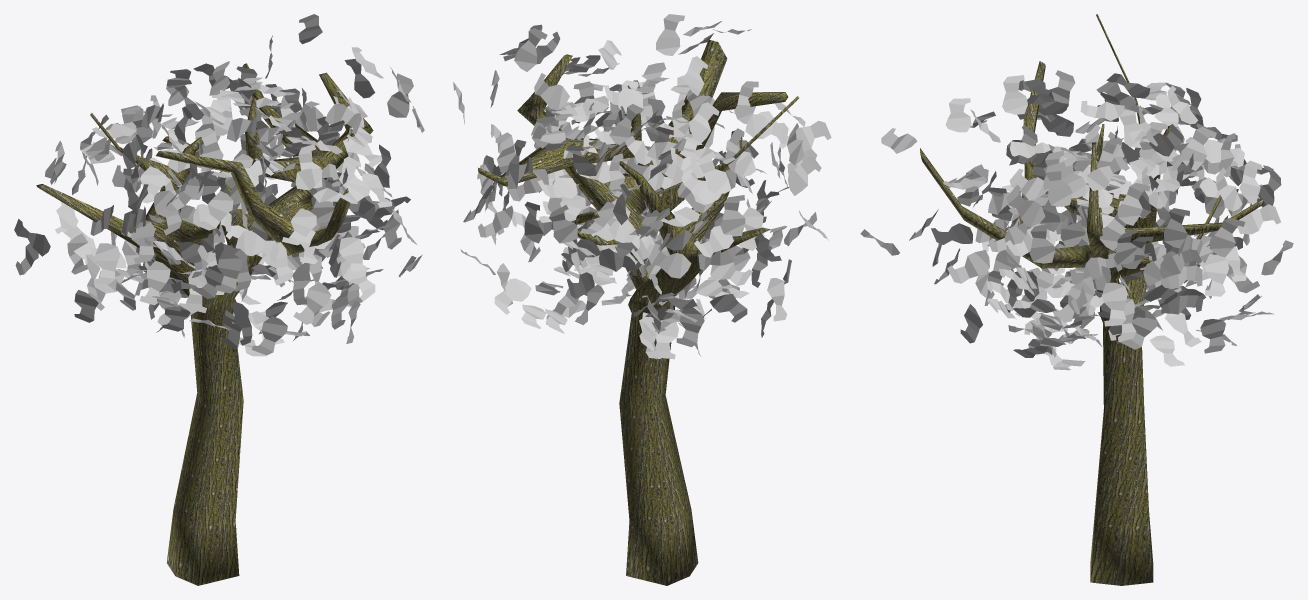
Rendered from alberi e sfondo.fbx.
3 renders of one model, left to right at view 1: azimuth 30°, elevation 25°; view 2: azimuth 150°, elevation 25°; view 3: azimuth 270°, elevation 25°, orthographic.
Parts seen in each view (by area): view 1: Cube, Cube|Empty.001|Dupli|66, Cube|Empty.001|Dupli|119, Cube|Empty.001|Dupli|143, Cube|Empty.001|Dupli|54, Cube|Empty.001|Dupli|179, Cube|Empty.001|Dupli|2, Cube|Empty.001|Dupli|132, Cube|Empty.001|Dupli|145, Cube|Empty.001|Dupli|266, Cube|Empty.001|Dupli|31, Cube|Empty.001|Dupli|26 (+12 smaller); view 2: Cube, Cube|Empty.001|Dupli|149, Cube|Empty.001|Dupli|166, Cube|Empty.001|Dupli|222, Cube|Empty.001|Dupli|175, Cube|Empty.001|Dupli|172, Cube|Empty.001|Dupli|217, Cube|Empty.001|Dupli|23, Cube|Empty.001|Dupli|117, Cube|Empty.001|Dupli|209, Cube|Empty.001|Dupli|211, Cube|Empty.001|Dupli|137 (+22 smaller); view 3: Cube, Cube|Empty.001|Dupli|197, Cube|Empty.001|Dupli|71, Cube|Empty.001|Dupli|90, Cube|Empty.001|Dupli|123, Cube|Empty.001|Dupli|150, Cube|Empty.001|Dupli|198, Cube|Empty.001|Dupli|30, Cube|Empty.001|Dupli|164, Cube|Empty.001|Dupli|239, Cube|Empty.001|Dupli|131, Cube|Empty.001|Dupli|151 (+19 smaller).
Boxes of the visible parts, bbox=[...] form: Cube: bbox=[36, 63, 373, 585]; Cube|Empty.001|Dupli|66: bbox=[94, 243, 120, 284]; Cube|Empty.001|Dupli|119: bbox=[235, 230, 279, 262]; Cube|Empty.001|Dupli|143: bbox=[339, 237, 367, 280]; Cube|Empty.001|Dupli|54: bbox=[215, 250, 242, 293]; Cube|Empty.001|Dupli|179: bbox=[293, 282, 331, 324]; Cube|Empty.001|Dupli|2: bbox=[196, 191, 233, 230]; Cube|Empty.001|Dupli|132: bbox=[139, 260, 170, 305]; Cube|Empty.001|Dupli|145: bbox=[251, 316, 287, 355]; Cube|Empty.001|Dupli|266: bbox=[282, 208, 316, 245]; Cube|Empty.001|Dupli|31: bbox=[131, 220, 155, 263]; Cube|Empty.001|Dupli|26: bbox=[387, 73, 413, 117]; Cube: bbox=[478, 40, 798, 585]; Cube|Empty.001|Dupli|149: bbox=[648, 243, 691, 278]; Cube|Empty.001|Dupli|166: bbox=[720, 195, 745, 236]; Cube|Empty.001|Dupli|222: bbox=[698, 151, 731, 193]; Cube|Empty.001|Dupli|175: bbox=[656, 14, 684, 55]; Cube|Empty.001|Dupli|172: bbox=[745, 114, 788, 144]; Cube|Empty.001|Dupli|217: bbox=[514, 28, 547, 71]; Cube|Empty.001|Dupli|23: bbox=[494, 278, 531, 314]; Cube|Empty.001|Dupli|117: bbox=[534, 73, 569, 110]; Cube|Empty.001|Dupli|209: bbox=[549, 205, 577, 243]; Cube|Empty.001|Dupli|211: bbox=[676, 307, 704, 347]; Cube|Empty.001|Dupli|137: bbox=[689, 102, 719, 143]; Cube: bbox=[920, 14, 1263, 585]; Cube|Empty.001|Dupli|197: bbox=[1102, 282, 1127, 326]; Cube|Empty.001|Dupli|71: bbox=[1045, 162, 1072, 206]; Cube|Empty.001|Dupli|90: bbox=[947, 250, 989, 283]; Cube|Empty.001|Dupli|123: bbox=[1006, 185, 1045, 227]; Cube|Empty.001|Dupli|150: bbox=[1204, 254, 1228, 296]; Cube|Empty.001|Dupli|198: bbox=[1117, 183, 1150, 225]; Cube|Empty.001|Dupli|30: bbox=[1209, 217, 1245, 257]; Cube|Empty.001|Dupli|164: bbox=[1029, 223, 1055, 263]; Cube|Empty.001|Dupli|239: bbox=[1181, 127, 1216, 170]; Cube|Empty.001|Dupli|131: bbox=[1002, 75, 1027, 114]; Cube|Empty.001|Dupli|151: bbox=[1237, 204, 1280, 234].
Bounding box in the file's own units: 489 × 663 × 499.
